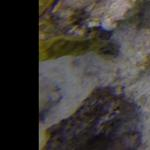dead: (39, 2, 148, 148)
